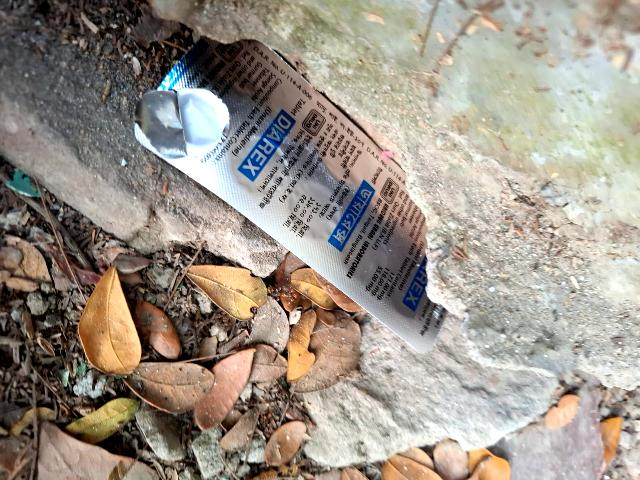medicine: (132, 19, 518, 368)
